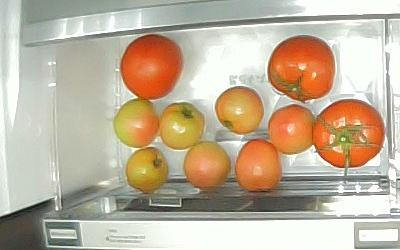tomato: (315, 99, 384, 171), (268, 35, 336, 103), (121, 34, 183, 99), (236, 140, 283, 192), (215, 87, 265, 134), (113, 99, 159, 149), (184, 142, 231, 190), (269, 105, 314, 155), (160, 102, 204, 151), (127, 148, 169, 192)
